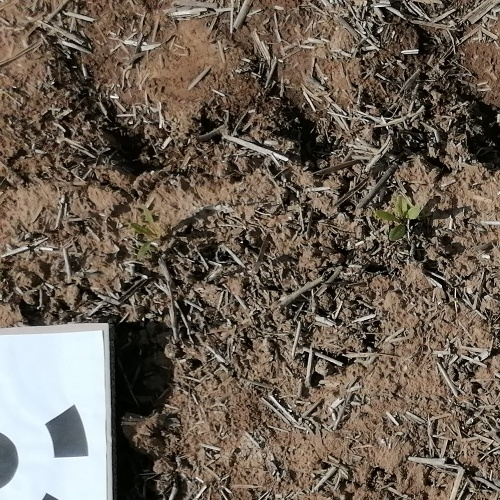beet: (376, 198, 425, 241), (131, 199, 161, 260)
